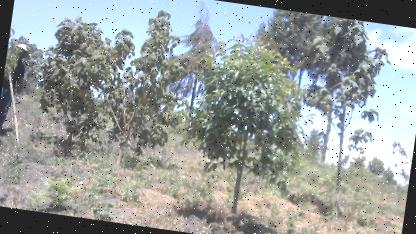tree: (168, 23, 325, 222), (94, 1, 192, 178), (25, 7, 124, 168)
